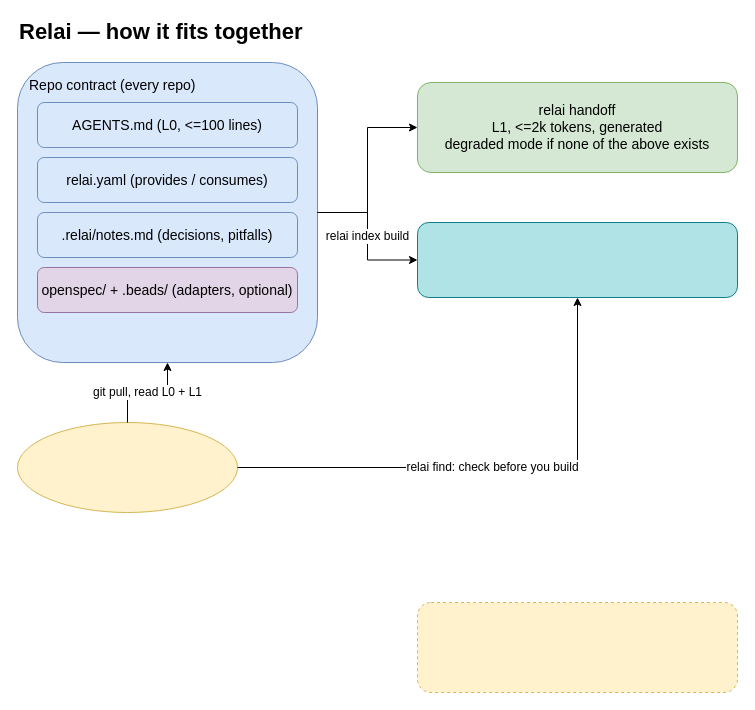
The diagram is 755 pixels wide and 710 high, and some of its shapes have lost their labels. Each missing label, with the centre of its shape:
"index.json (relai.yaml of every known repo)" goes at point (577, 260).
"Person B + their agent" goes at point (127, 467).
"Planned, not built: shared conventions repo, golden path template" goes at point (577, 647).
